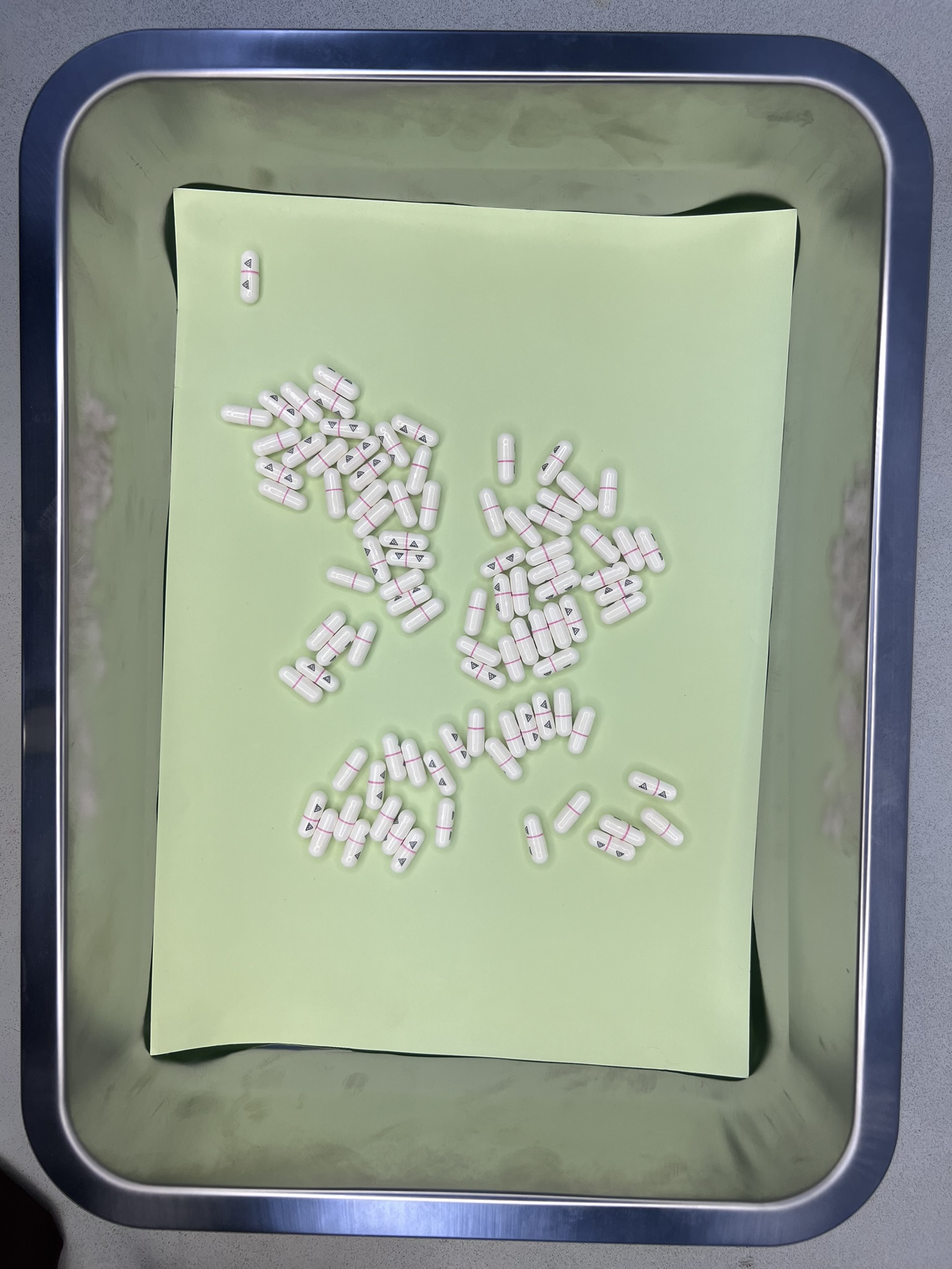Capsule: (279, 380, 324, 424), (346, 478, 390, 520), (257, 389, 304, 428), (641, 806, 685, 847), (388, 827, 426, 874), (305, 610, 347, 652), (336, 435, 380, 475), (254, 455, 304, 490), (294, 656, 340, 694), (374, 421, 410, 469), (555, 470, 597, 511), (400, 596, 445, 634), (313, 364, 359, 401), (258, 478, 308, 512), (421, 749, 457, 796), (391, 413, 438, 449), (332, 746, 368, 793), (316, 625, 357, 666), (554, 789, 592, 833), (355, 496, 395, 537), (527, 553, 575, 587), (382, 808, 416, 856), (538, 441, 574, 486), (535, 488, 584, 521), (579, 524, 619, 564), (612, 526, 646, 573), (485, 737, 522, 780), (534, 569, 582, 602), (526, 504, 574, 537), (526, 536, 574, 569), (459, 655, 504, 690), (600, 592, 646, 626), (456, 636, 502, 670), (381, 568, 428, 601), (346, 621, 379, 668), (297, 790, 328, 840), (308, 807, 339, 857), (628, 770, 676, 802), (254, 427, 305, 457), (278, 666, 320, 702), (369, 796, 401, 843), (588, 830, 635, 862), (581, 563, 631, 593), (341, 818, 371, 868), (558, 594, 588, 644), (594, 575, 642, 606), (480, 546, 525, 579), (633, 527, 666, 572), (503, 507, 539, 547), (387, 481, 417, 529), (333, 794, 363, 842), (599, 814, 644, 846), (532, 648, 578, 679), (567, 706, 596, 755), (287, 432, 327, 467), (527, 609, 555, 659), (543, 602, 572, 650), (439, 723, 469, 769), (509, 618, 537, 667), (514, 702, 542, 751), (349, 456, 387, 492), (326, 566, 374, 594), (363, 536, 391, 584), (385, 586, 428, 617), (309, 439, 346, 475), (499, 709, 527, 755), (523, 814, 548, 865), (492, 573, 518, 622), (220, 404, 273, 428), (407, 447, 431, 500), (478, 488, 505, 535), (532, 691, 557, 741), (401, 738, 427, 786), (382, 734, 407, 783), (498, 636, 525, 681), (239, 251, 260, 306), (464, 588, 487, 637), (419, 481, 441, 532), (323, 469, 345, 519), (509, 567, 531, 614), (552, 686, 572, 737), (365, 761, 387, 807), (322, 419, 370, 440), (435, 799, 455, 849), (598, 468, 618, 518), (325, 389, 358, 419), (467, 707, 486, 759), (496, 433, 516, 482), (389, 550, 435, 571), (380, 531, 429, 550)
